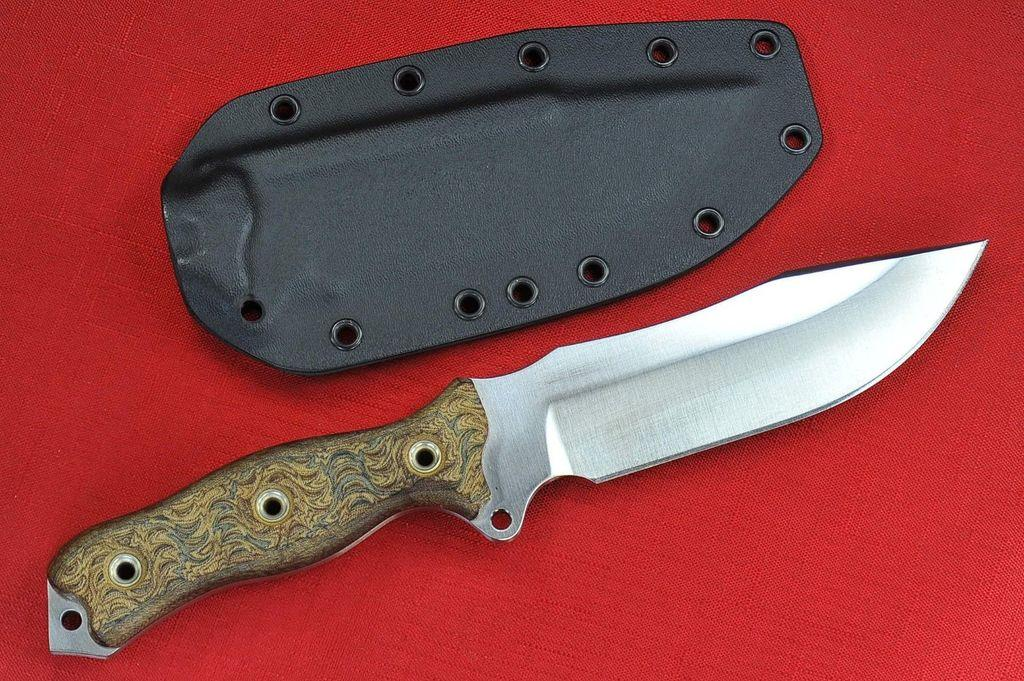Knife: (45, 239, 989, 661)
